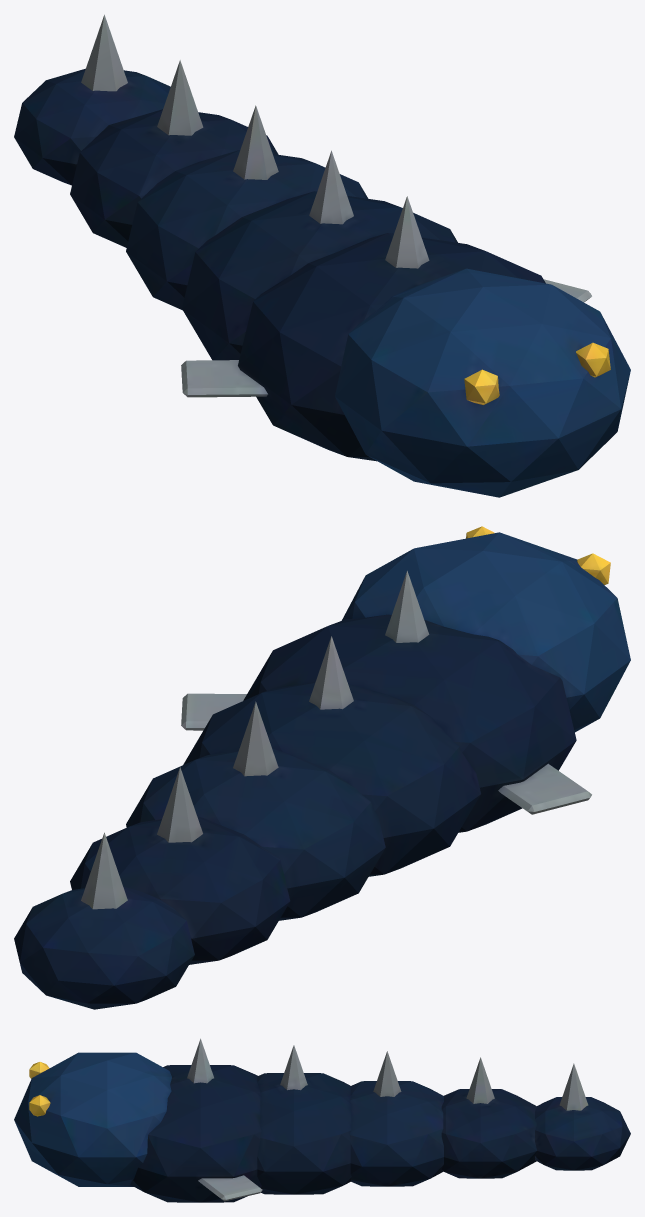
File: night-leviathan.glb
3 renders of one model, top to bottom at view 1: azimuth 30°, elevation 25°; view 2: azimuth 150°, elevation 25°; view 3: azimuth 270°, elevation 25°, orthographic. The views are drawn at different scales.
Visible parts, largest first — view 1: night-leviathan; view 2: night-leviathan; view 3: night-leviathan.
Part boxes in pixels (box(x1,y1,x2,y2)): night-leviathan: box(14, 14, 630, 497); night-leviathan: box(14, 526, 630, 1009); night-leviathan: box(14, 1038, 630, 1202).
Size of the model in its own units: 2.8 by 1.63 by 5.95.
Materials: 1 (1 with a texture image).
